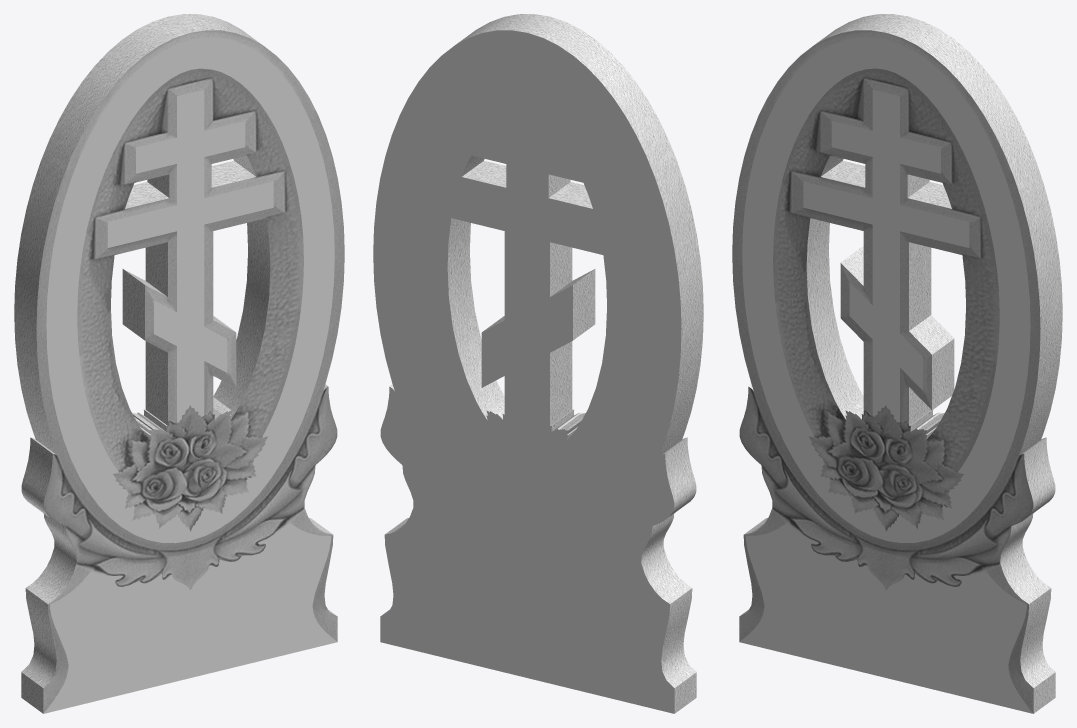
File: cne60a1cf918_tkf.glb
The picture shows the model from 3 angles, left to right: view 1: azimuth 30°, elevation 25°; view 2: azimuth 150°, elevation 25°; view 3: azimuth 330°, elevation 25°; orthographic projection.
Parts seen in each view (by area): view 1: Pam-d01-096_2_notexture, Pam-d01-096; view 2: Pam-d01-096, Pam-d01-096_2_notexture; view 3: Pam-d01-096_2_notexture, Pam-d01-096.
Boxes of the visible parts, x1,y1,x2,y2 form: Pam-d01-096_2_notexture: (14,14,344,713); Pam-d01-096: (44,37,337,713); Pam-d01-096: (373,30,681,713); Pam-d01-096_2_notexture: (381,14,703,713); Pam-d01-096_2_notexture: (732,14,1062,713); Pam-d01-096: (739,37,1032,713).
Size of the model in its own units: 0.4 by 0.8 by 0.05.
Materials: 1 (1 with a texture image).
